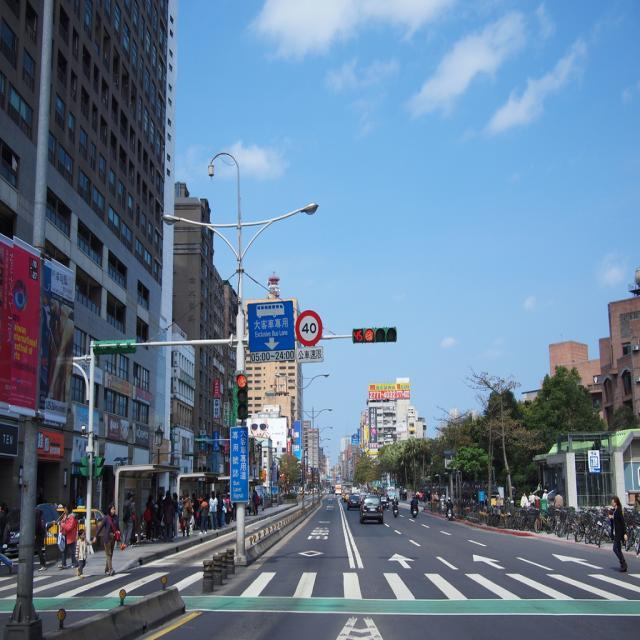off traffic light: (94, 456, 106, 478)
road_sign: (294, 309, 324, 348)
traffic light: (351, 326, 397, 345), (237, 373, 249, 419)
